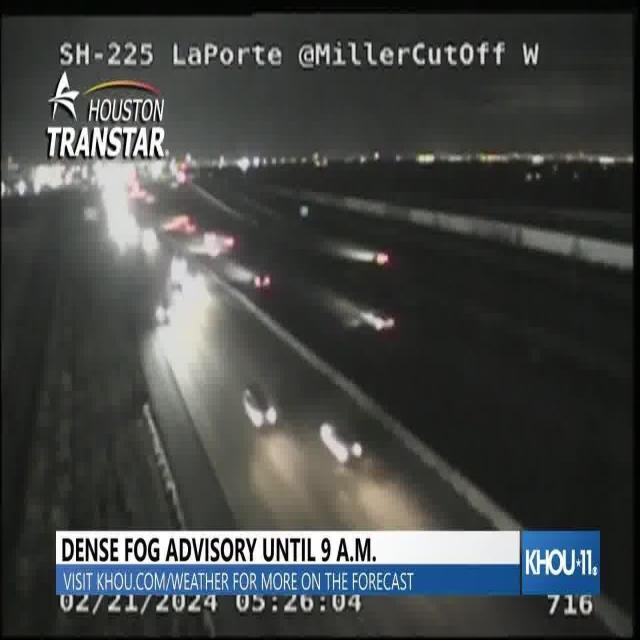Car: (318, 412, 365, 464), (241, 379, 282, 431), (367, 307, 399, 334), (152, 298, 176, 328), (250, 269, 274, 287)
